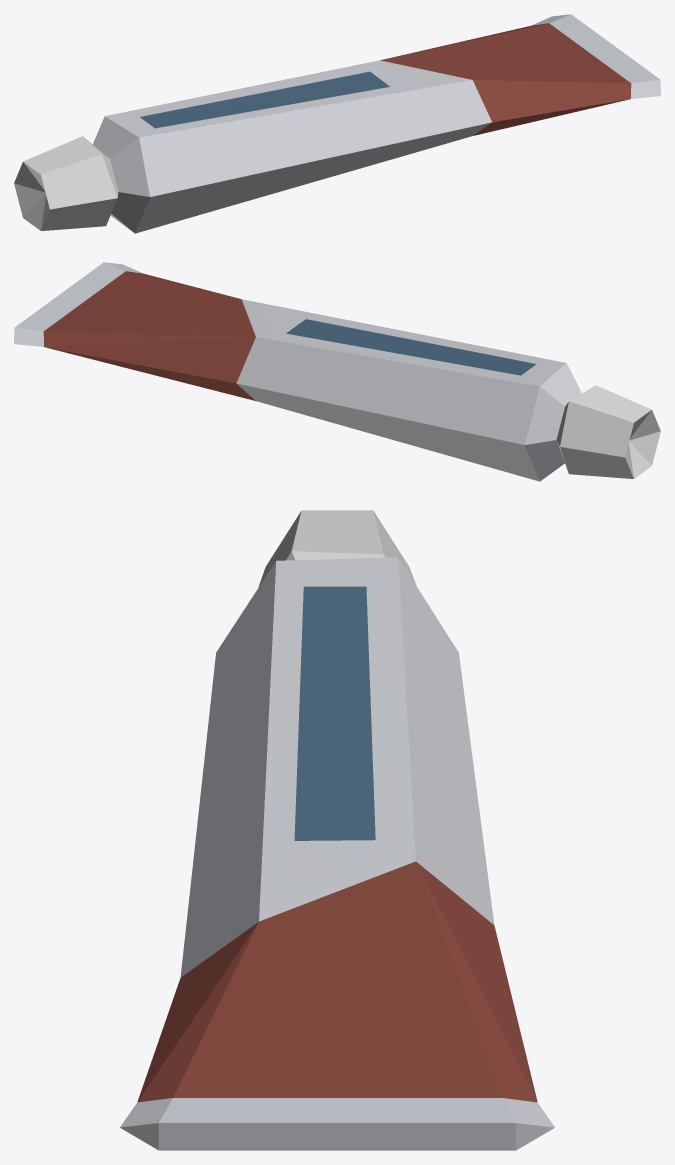
File: SM_Item_Toothpaste_01.obj
3 renders of one model, top to bottom at view 1: azimuth 30°, elevation 25°; view 2: azimuth 150°, elevation 25°; view 3: azimuth 270°, elevation 25°, orthographic. The views are drawn at different scales.
Parts seen in each view (by area): view 1: SM_Item_Toothpaste_01_0; view 2: SM_Item_Toothpaste_01_0; view 3: SM_Item_Toothpaste_01_0.
Part boxes in pixels (x1,y1,x2,y2): SM_Item_Toothpaste_01_0: [14, 14, 660, 233]; SM_Item_Toothpaste_01_0: [14, 262, 660, 481]; SM_Item_Toothpaste_01_0: [120, 510, 554, 1150].
Size of the model in its own units: 0.3634 by 0.0568 by 0.1174.
1 material, 1 textured.
